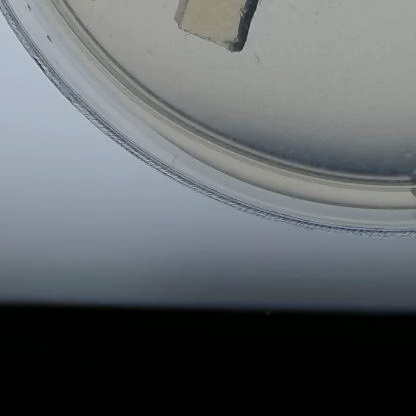worm: (249, 43, 270, 66), (260, 0, 270, 8)
